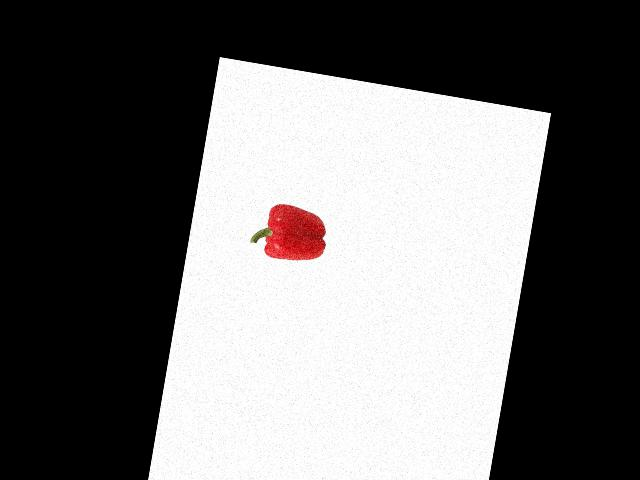bell_pepper: (248, 191, 333, 268)
